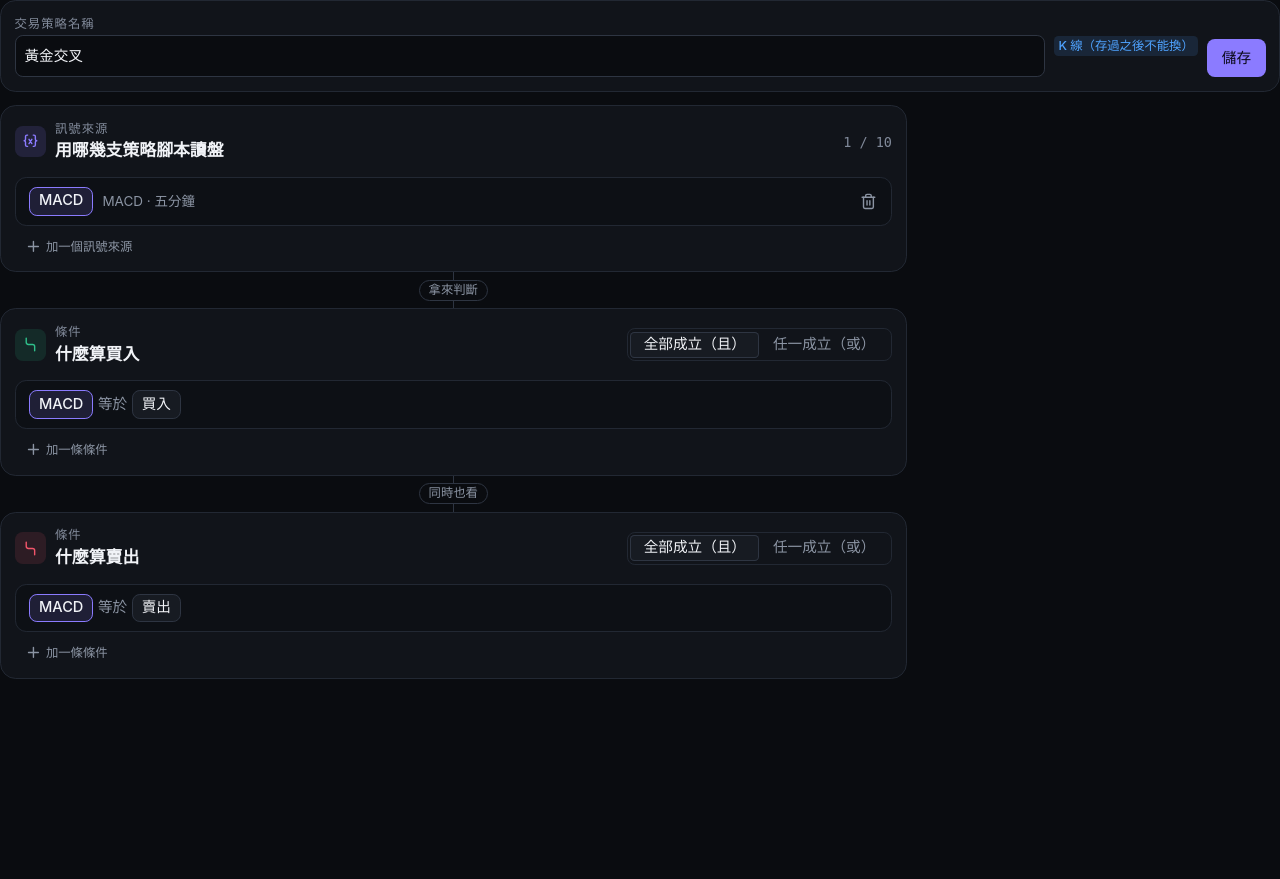
Test: TradingStrategyWorkbench：引用的訊號來源被刪掉 › 刪之前，設定裡先說有誰在用它
This screenshot has width=1280, height=879.
Click the button with test id "strategy-script-settings-0" at {"x": 61, "y": 201}, box top-left (16, 178), bottom-right (845, 224)
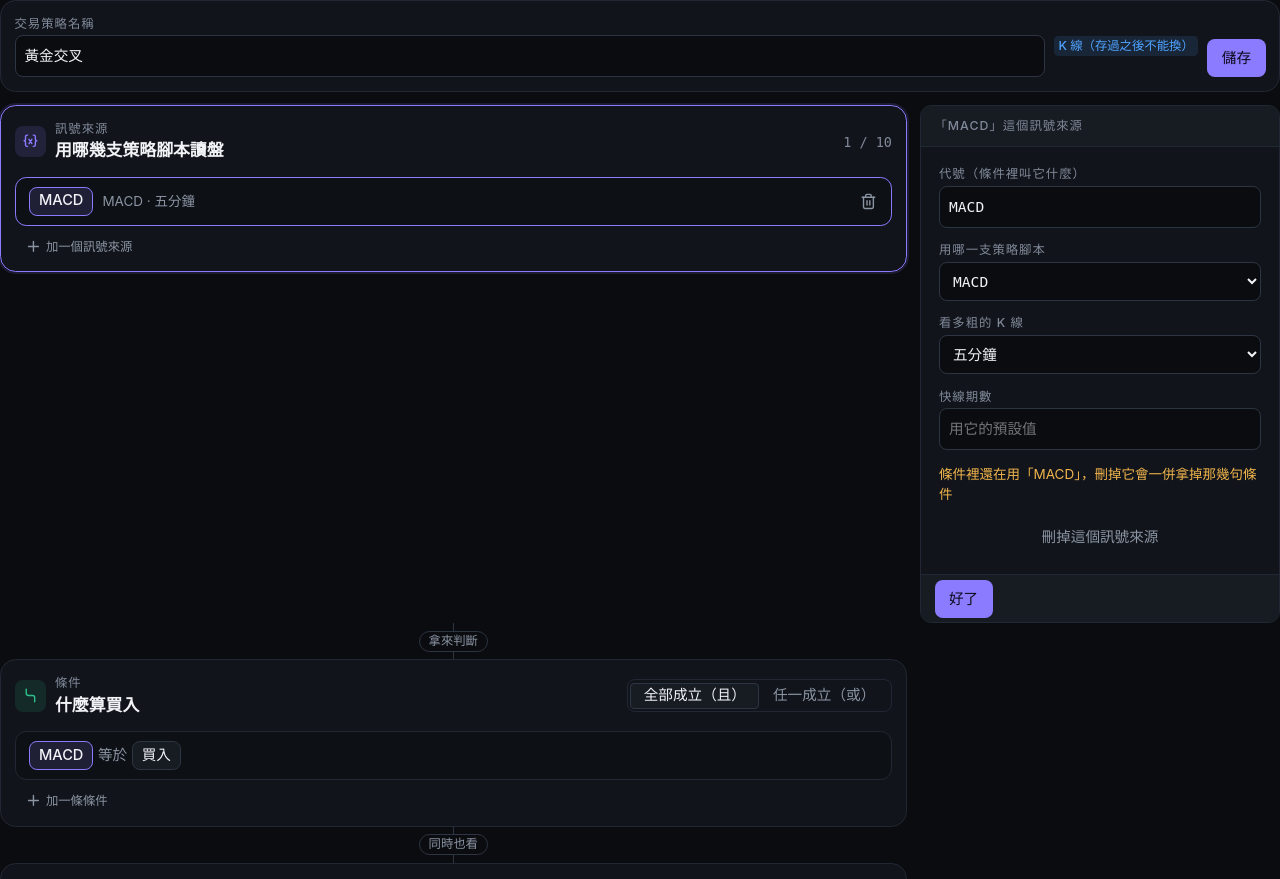
Check: the text with test id "strategy-script-usage-warning" reads "條件裡還在用「MACD」，刪掉它會一併拿掉那幾句條件", box top-left (939, 466), bottom-right (1256, 502)
